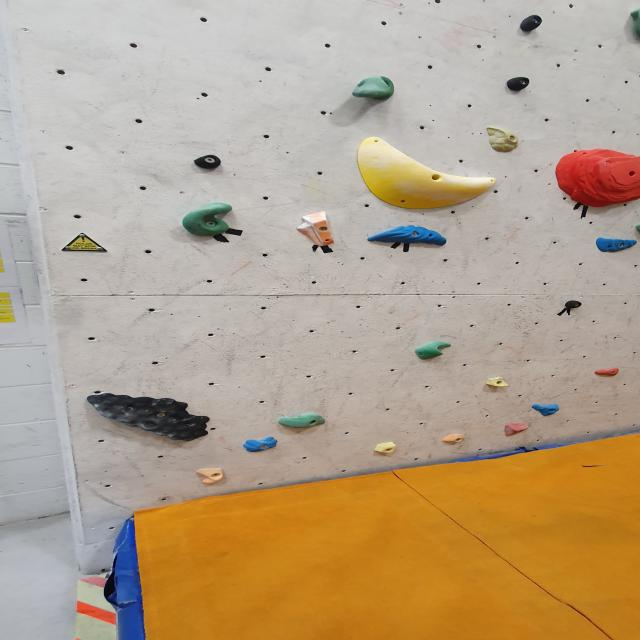Crimp: (552, 153, 638, 212), (364, 227, 450, 247), (482, 123, 518, 153), (595, 238, 640, 254), (243, 439, 281, 454), (484, 376, 520, 391), (530, 402, 566, 416), (372, 441, 400, 453), (595, 367, 622, 379), (439, 434, 468, 442)
Jug: (180, 203, 236, 238), (344, 74, 402, 100), (276, 413, 327, 431), (416, 339, 451, 362)
Pinch: (296, 211, 338, 247), (182, 152, 230, 172), (500, 75, 536, 92), (521, 15, 547, 31), (560, 298, 588, 312)
Sloper: (355, 140, 502, 210), (82, 390, 216, 442), (196, 466, 228, 485), (504, 421, 532, 436)
